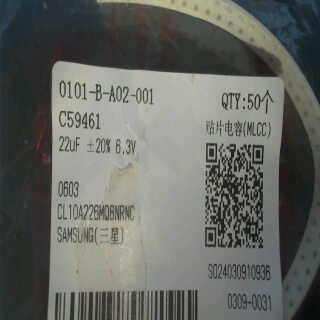22uF: (57, 131, 85, 156)
